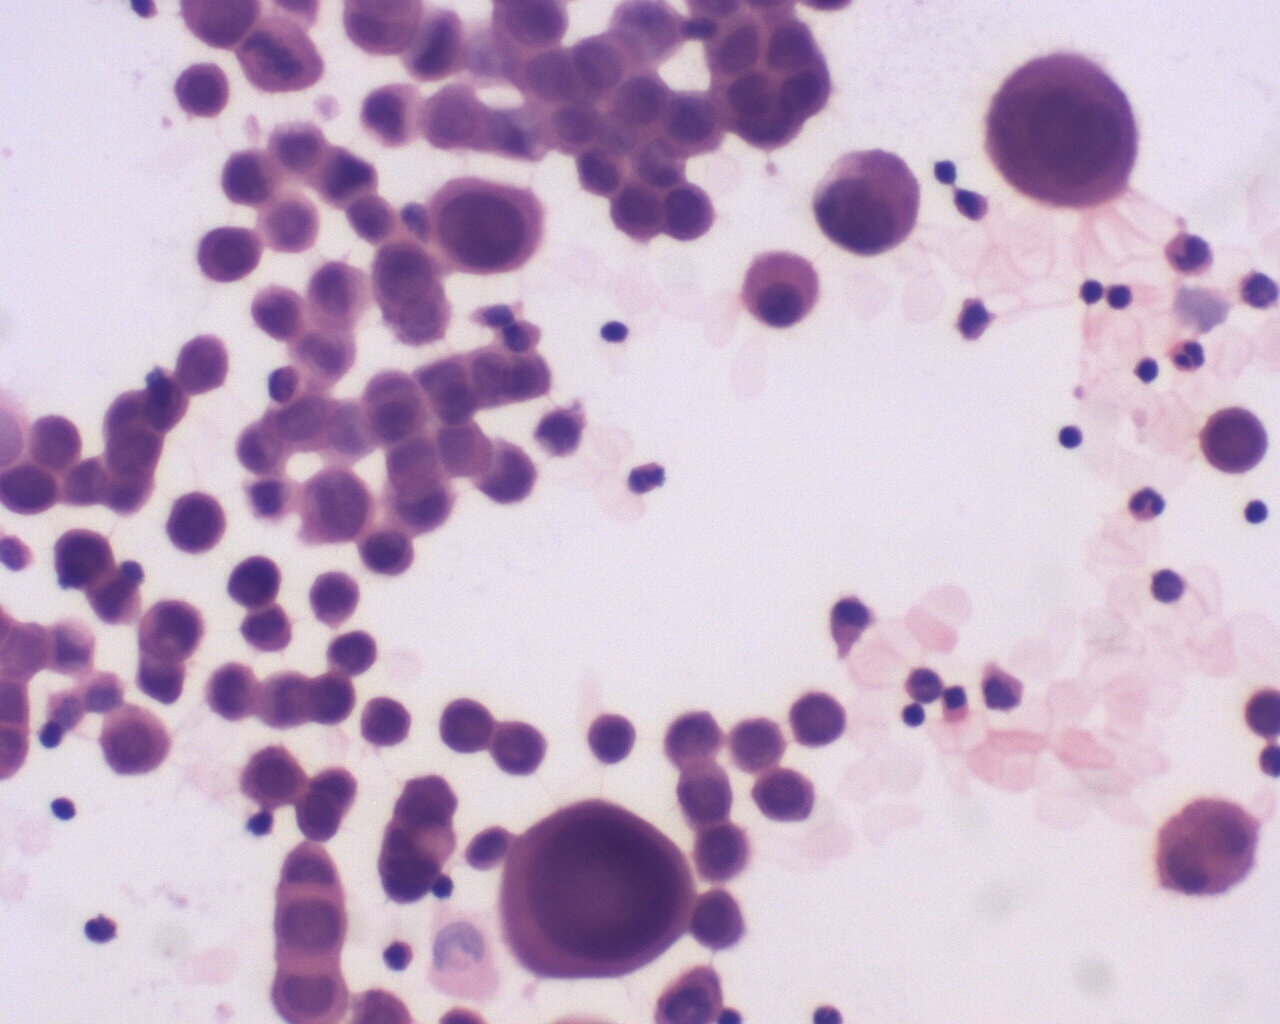ab: (497, 793, 691, 983), (987, 43, 1144, 212), (1149, 784, 1264, 909), (426, 173, 551, 284), (813, 142, 925, 259), (134, 596, 214, 667), (1197, 405, 1271, 478), (195, 218, 267, 290), (274, 892, 353, 957), (159, 488, 230, 560), (686, 886, 755, 960), (49, 525, 121, 594), (785, 688, 858, 754), (222, 548, 290, 616), (222, 142, 286, 213), (749, 767, 821, 829), (171, 53, 231, 124), (657, 179, 720, 245), (305, 565, 368, 631), (674, 762, 737, 825), (437, 694, 495, 757), (360, 517, 414, 579)
lymph: (1052, 418, 1093, 457), (1241, 493, 1273, 531)
meso: (737, 245, 823, 333)
neutro: (1124, 484, 1166, 525), (1171, 334, 1210, 373)
